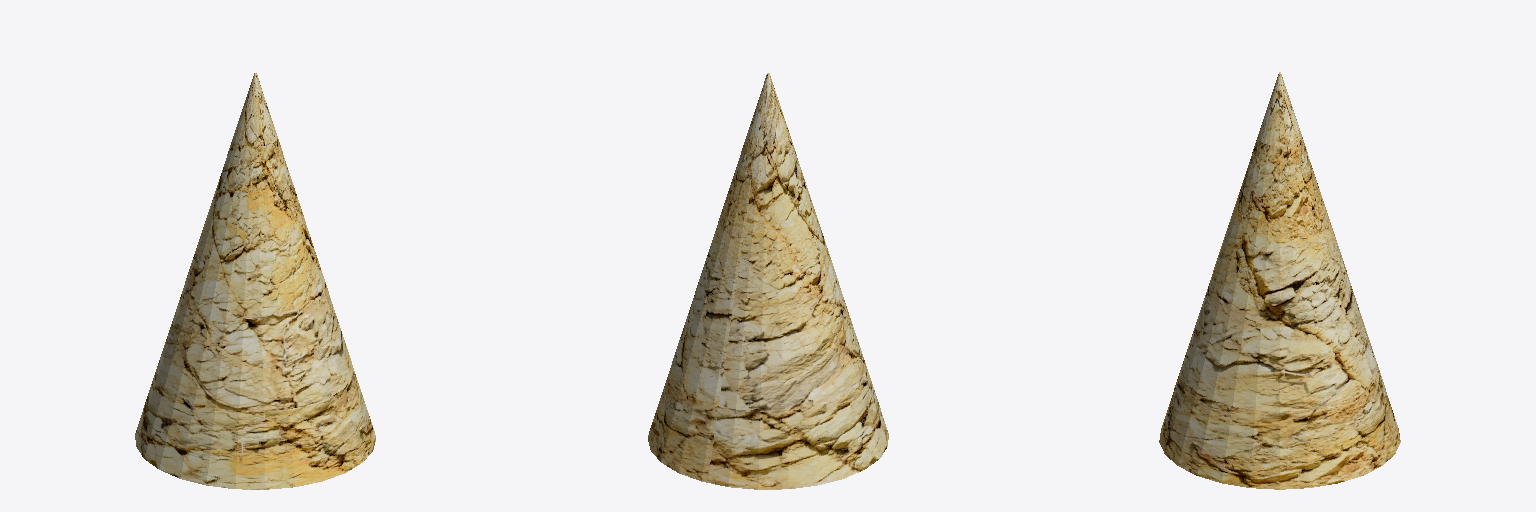
3 renders of one model, left to right at view 1: azimuth 30°, elevation 25°; view 2: azimuth 150°, elevation 25°; view 3: azimuth 270°, elevation 25°, orthographic.
Parts seen in each view (by area): view 1: Cone001; view 2: Cone001; view 3: Cone001.
Part boxes in pixels (left/top/right/bottom): Cone001: left=135, top=73, right=375, bottom=489; Cone001: left=648, top=73, right=888, bottom=489; Cone001: left=1159, top=72, right=1400, bottom=489.
Bounding box in the file's own units: 5.98 × 10 × 5.99.
1 materials, 1 textured.